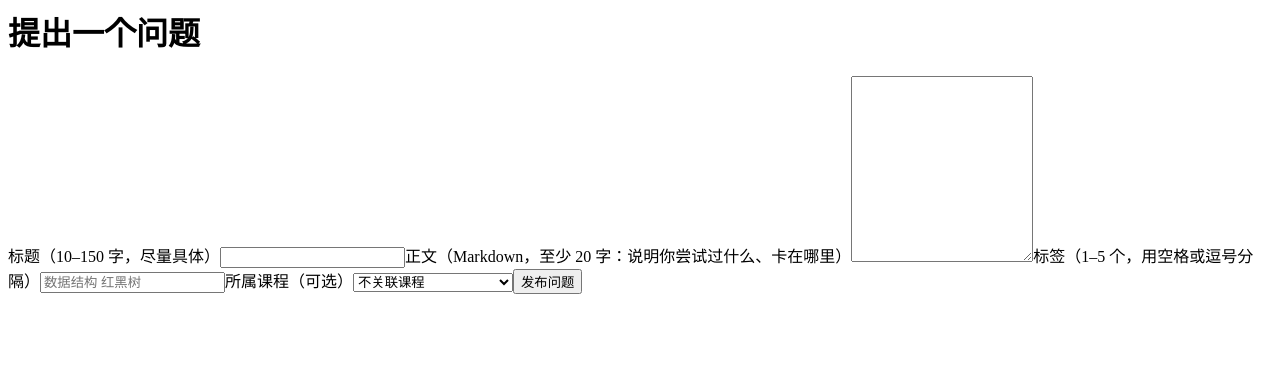
Scenario: AskPage › 发布失败时显示后端业务提示且不跳转
Type "太短" into the field labelled "标题（10–150 字，尽量具体）" at [312, 257], box [220,247,405,268]
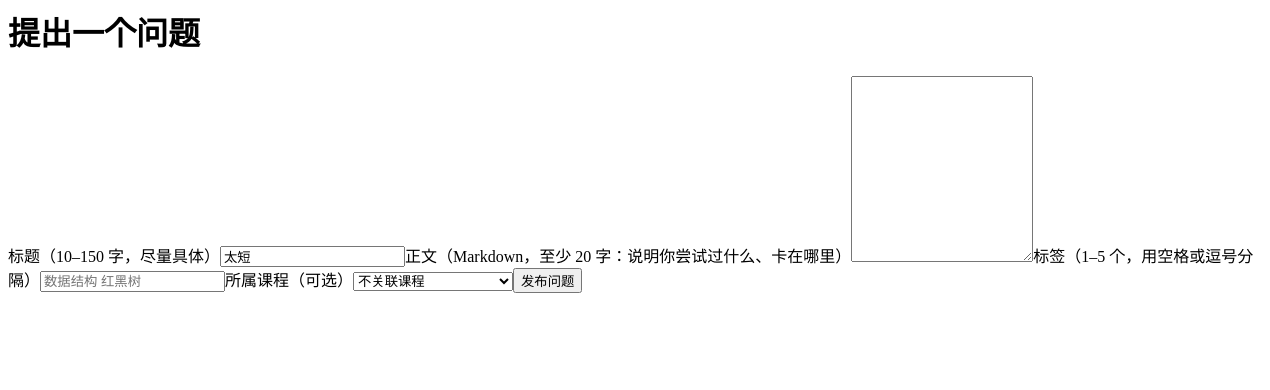
Type "正文内容足够长，说明我尝试过什么、卡在哪里。" into the text box labelled "正文（Markdown，至少 20 字：说明你尝试过什么、卡在哪里）" at [942, 169], box [851,76,1033,262]
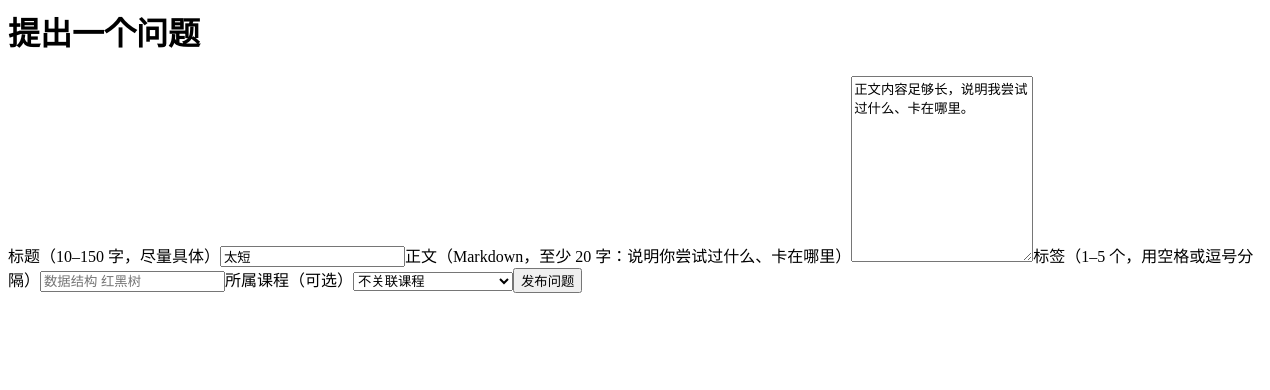
Click the button "发布问题" at [548, 280], box [513,268,582,293]
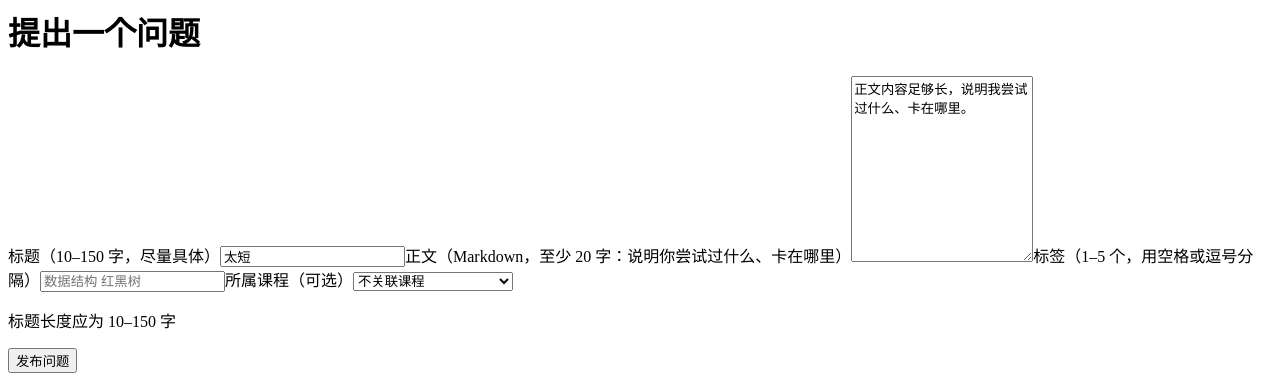
Now the text "标题长度应为 10–150 字" is shown, box [8,313,176,330]
